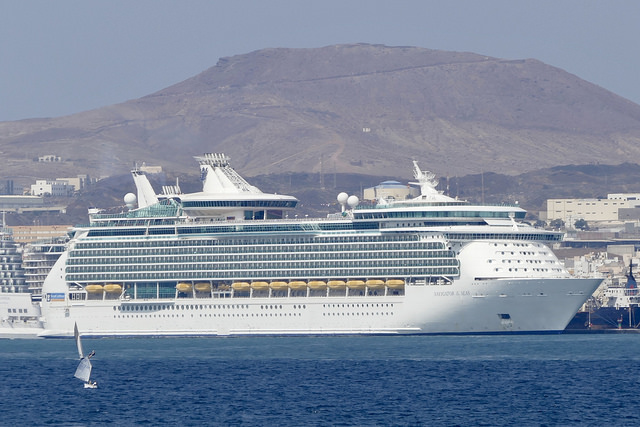boat: (70, 320, 95, 360), (74, 358, 99, 388)
cruise_ship: (42, 154, 599, 333)
